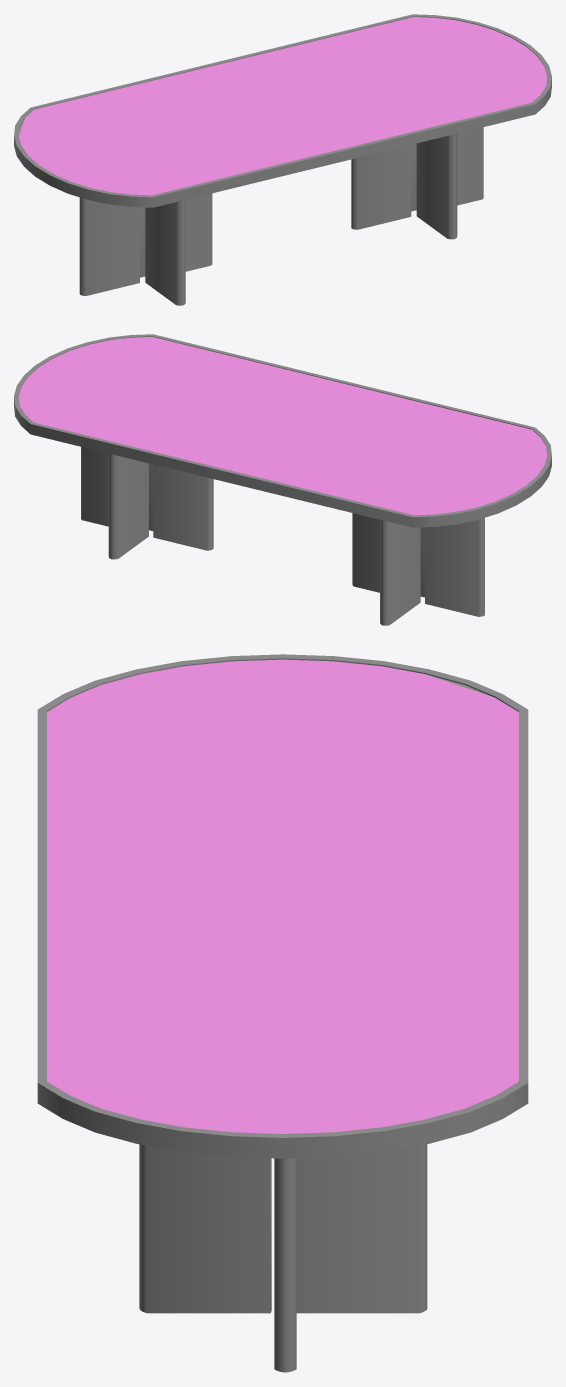
The model's file is table03.FBX.
The picture shows the model from 3 angles, top to bottom: view 1: azimuth 30°, elevation 25°; view 2: azimuth 150°, elevation 25°; view 3: azimuth 270°, elevation 25°; orthographic projection. The views are drawn at different scales.
Visible parts, largest first — view 1: mesh; view 2: mesh; view 3: mesh.
Part boxes in pixels (x1,y1,x2,y2): mesh: (14,14,551,305); mesh: (14,334,551,625); mesh: (37,654,528,1372).
Size of the model in its own units: 132 by 35.6 by 56.49.
